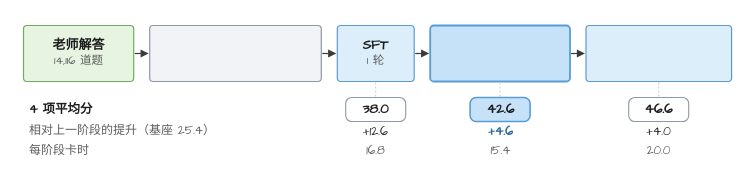
The diagram is 754 pixels wide and 196 high, and some of its shapes have lost their labels. Each missing label, with the centre of its shape:
"Scaffold-OPD 40 步" belongs at (499,53).
"拒绝采样 保留 11,158 条（79%）" belongs at (235,53).
"错题回流 GRPO 2,212 道题 · 30 步" belongs at (658,53).
